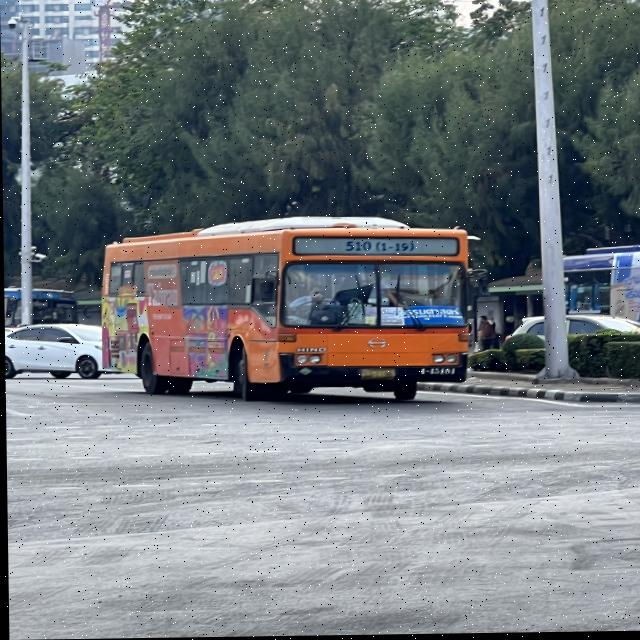BMTA-bus: (99, 218, 473, 404)
Bus Line Number: (334, 238, 423, 260)
Bus Side Number: (413, 366, 459, 378)
Destination Sign: (402, 307, 464, 327)
